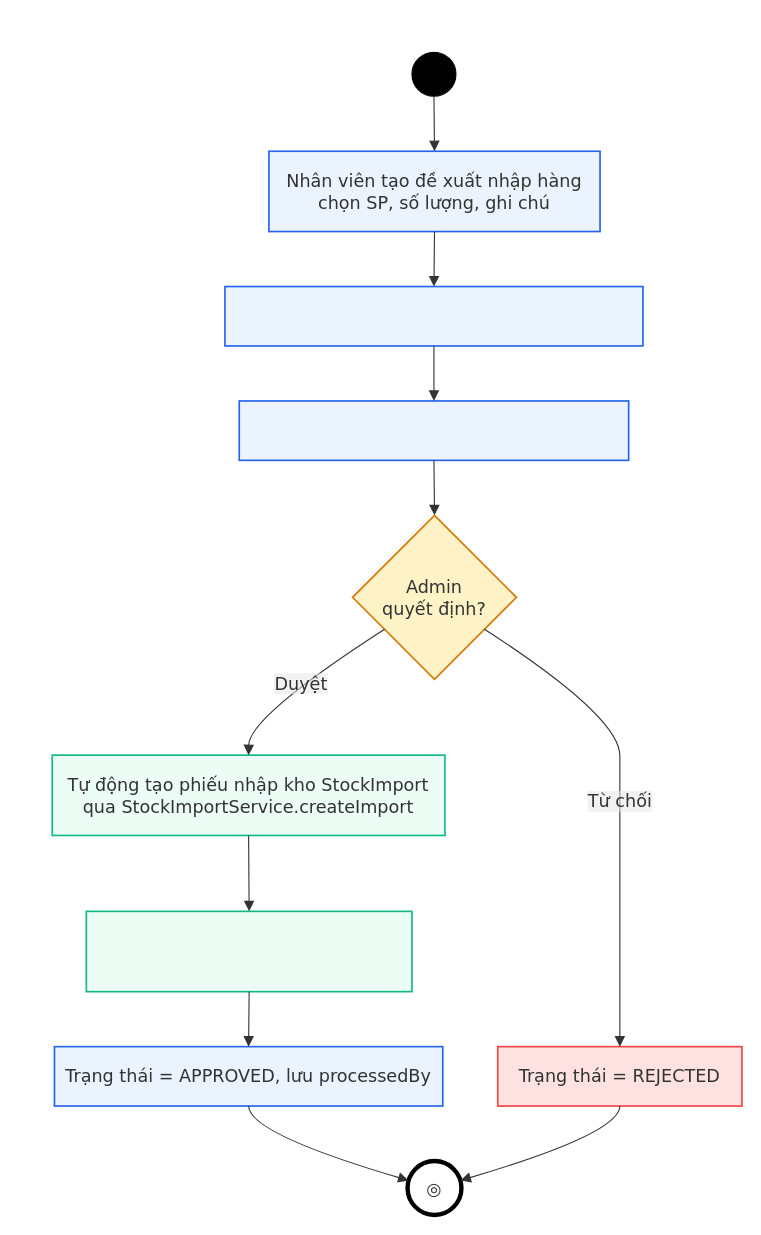
The diagram is 761 pixels wide and 1235 high, and some of its shapes have lost their labels. Each missing label, with the centre of its shape:
"Admin xem danh sách đề xuất chờ duyệt" belongs at (x=433, y=430).
"Hệ thống lưu đề xuất, trạng thái = PENDING" belongs at (x=433, y=315).
"Tự động CỘNG số lượng tồn kho của sản phẩm tương ứng" belongs at (x=248, y=951).
